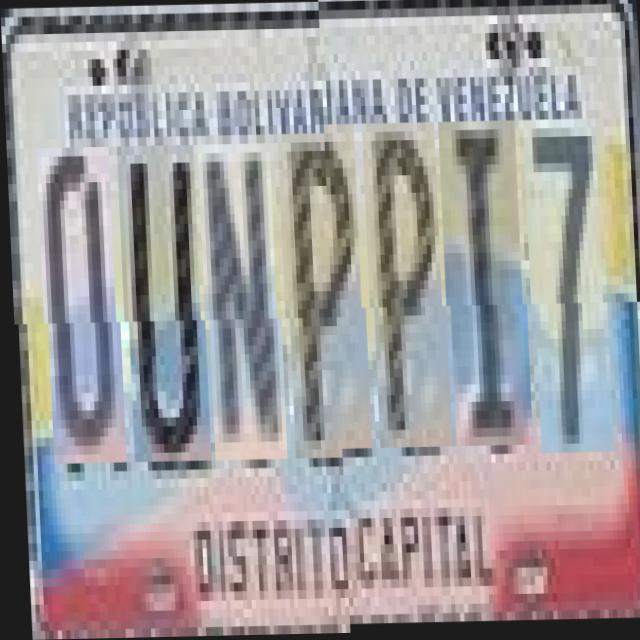0: (39, 148, 122, 464)
7: (526, 130, 610, 464)
I: (441, 131, 529, 457)
N: (200, 144, 283, 462)
P: (280, 134, 368, 460), (366, 132, 448, 458)
U: (119, 146, 207, 463)
